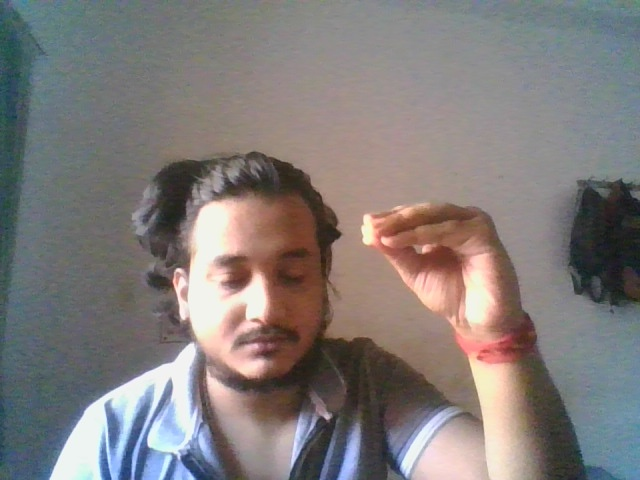Mouth: (361, 200, 524, 329)
